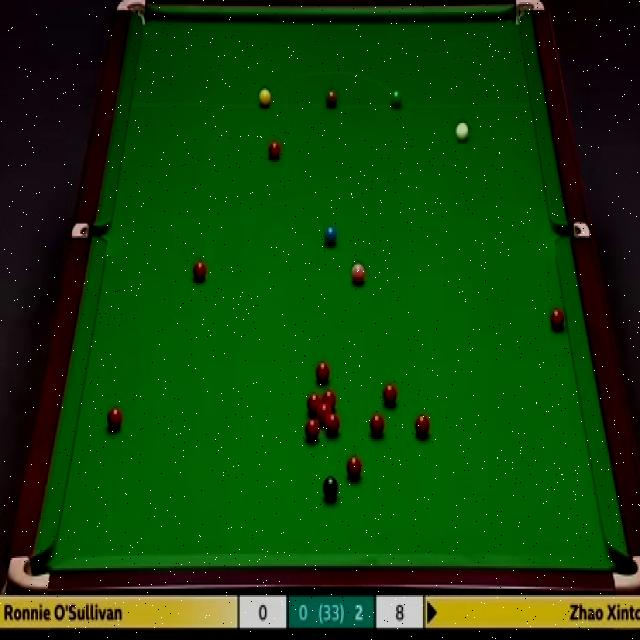black-ball: (322, 474, 338, 500)
blue-ball: (323, 223, 338, 250)
brown-ball: (325, 88, 338, 108)
green-ball: (390, 89, 403, 107)
pink-ball: (350, 262, 366, 286)
red-ball: (412, 413, 432, 440), (368, 412, 386, 442), (381, 380, 398, 410), (347, 452, 362, 482), (304, 418, 320, 444), (550, 307, 565, 334), (107, 406, 122, 432), (321, 388, 337, 412), (315, 362, 331, 386), (193, 258, 207, 284), (326, 412, 340, 436), (308, 392, 322, 416), (318, 404, 332, 425), (269, 140, 282, 160)
white-ball: (455, 121, 470, 142)
yellow-ball: (258, 88, 272, 108)
